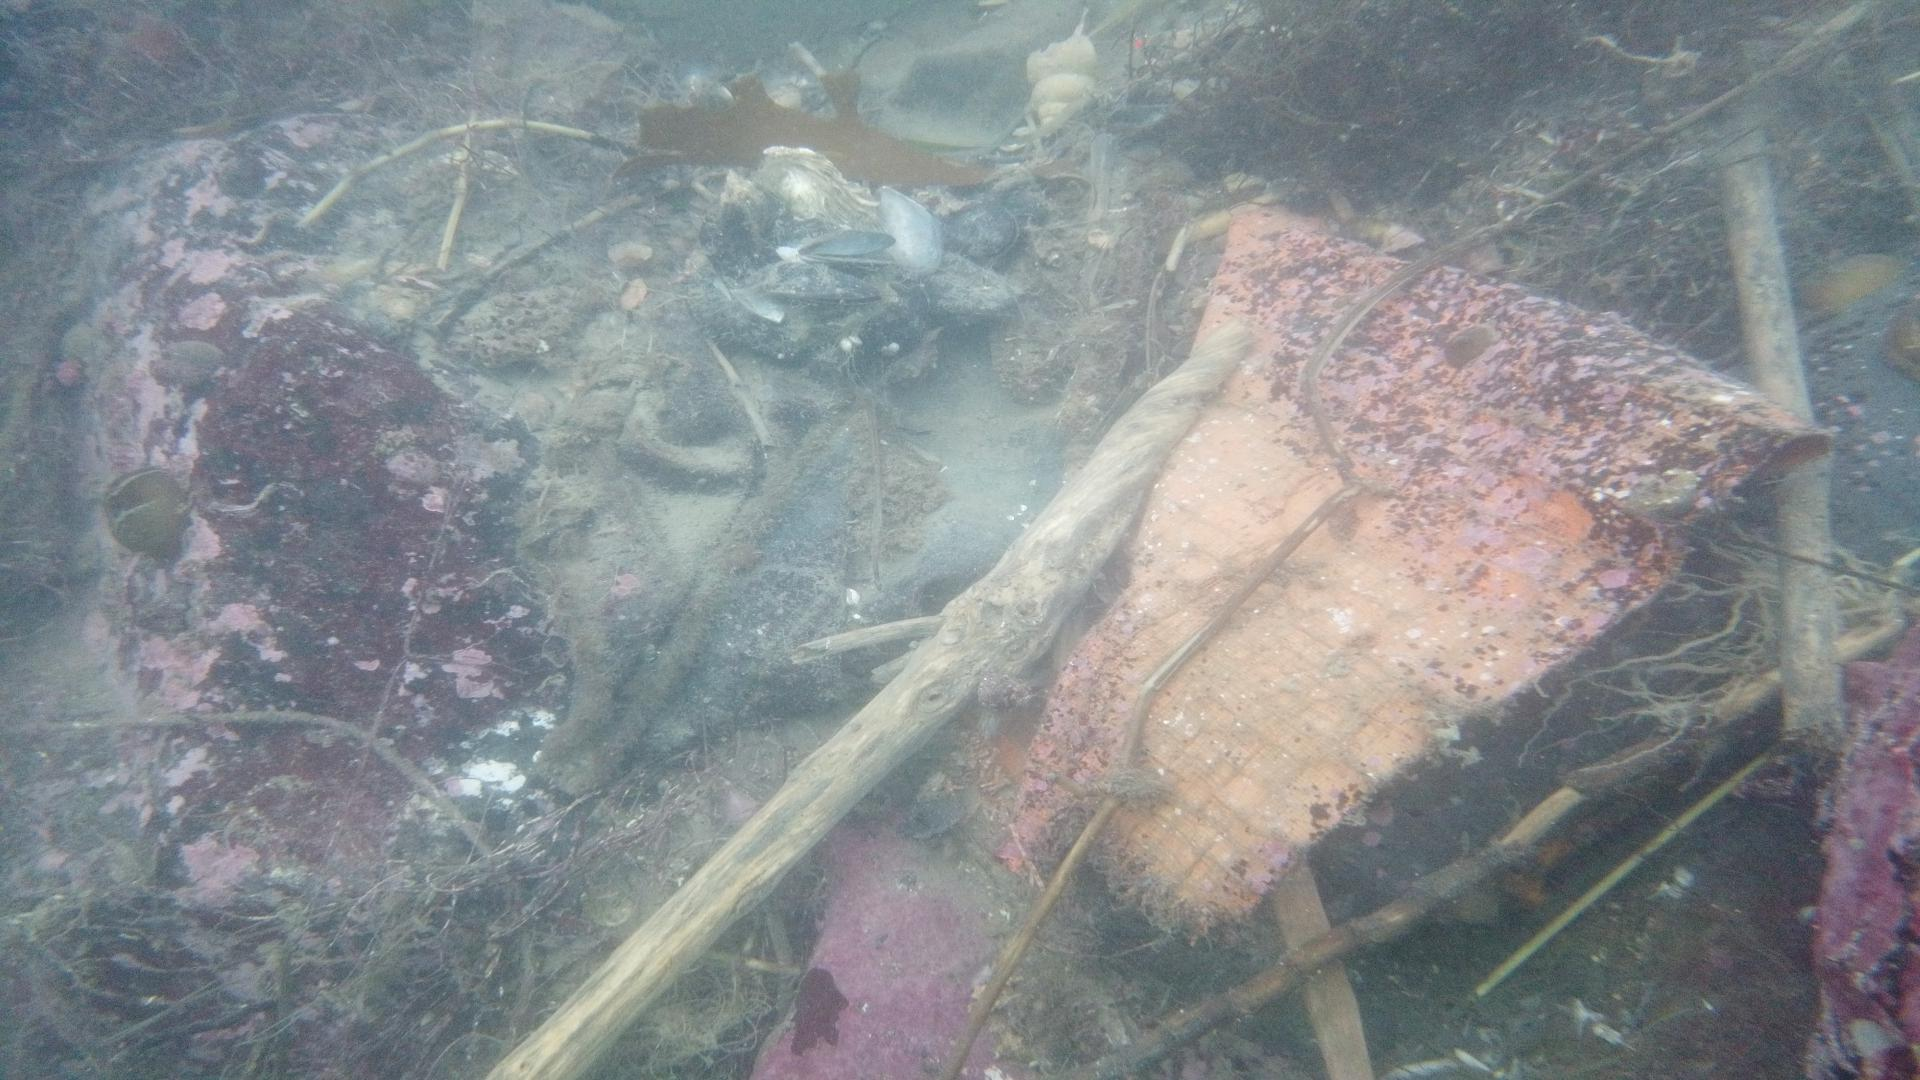wood: (477, 316, 1251, 1080), (1073, 615, 1902, 1075), (1712, 99, 1849, 771), (1273, 858, 1371, 1080)
